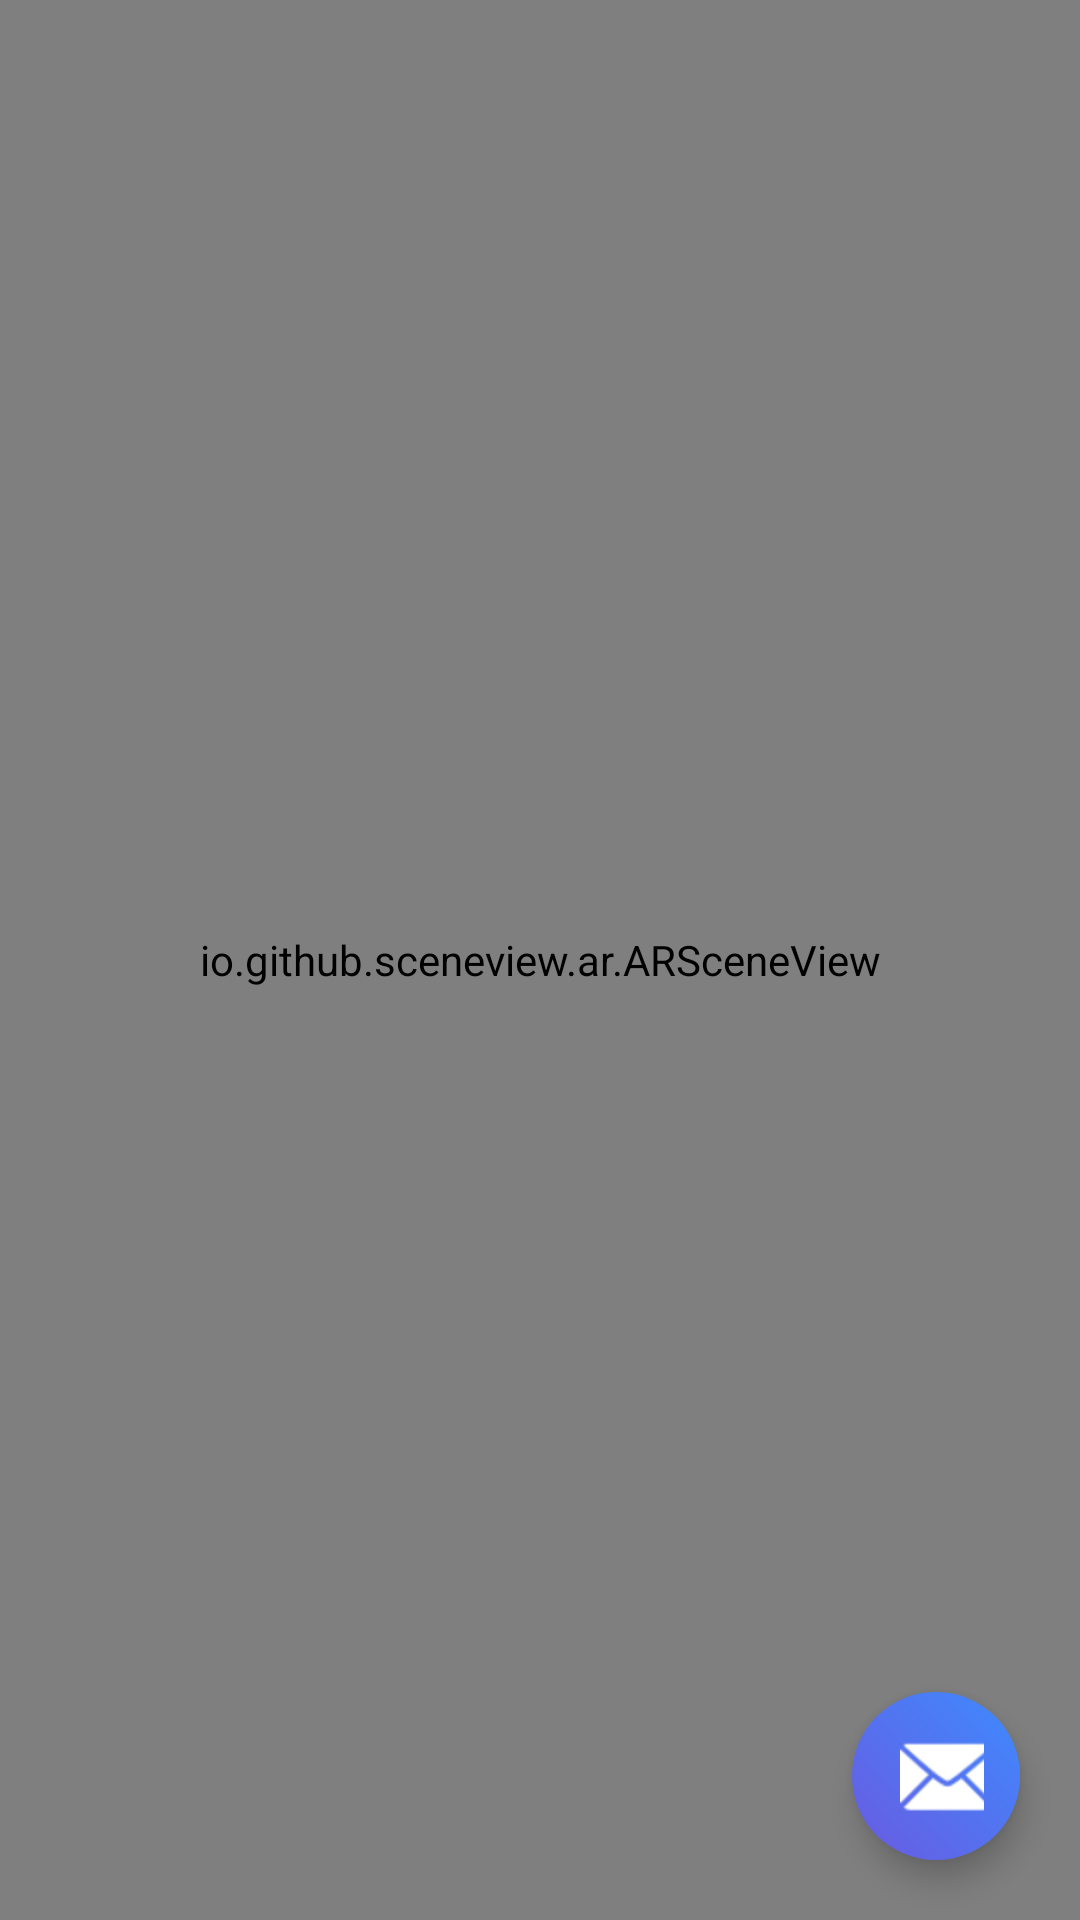

Icons on this 1080*1920 Android screen, each with its box as (x1, y1, x2, y2):
Chat: (900, 1743, 984, 1811)
